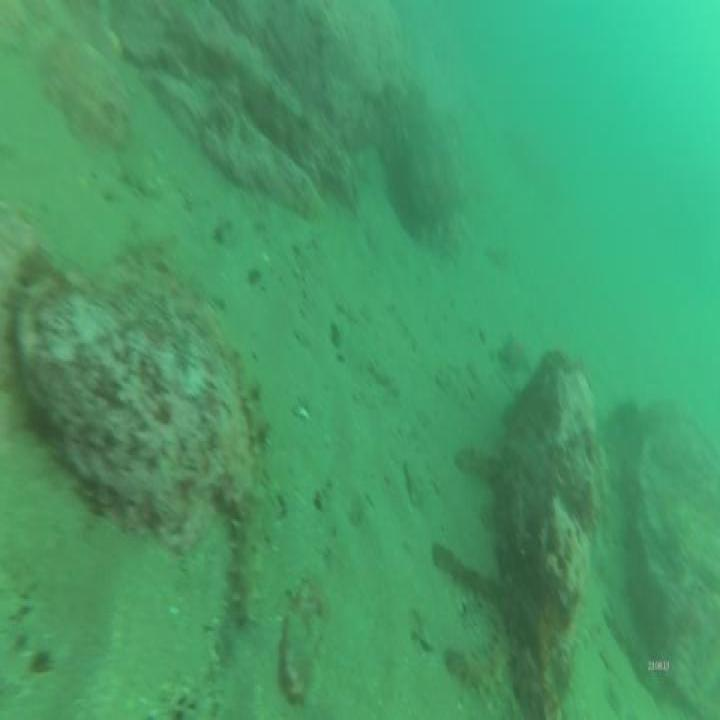holothurian: (228, 476, 279, 650), (442, 626, 519, 700), (235, 343, 269, 459)
starfish: (496, 325, 536, 380)
